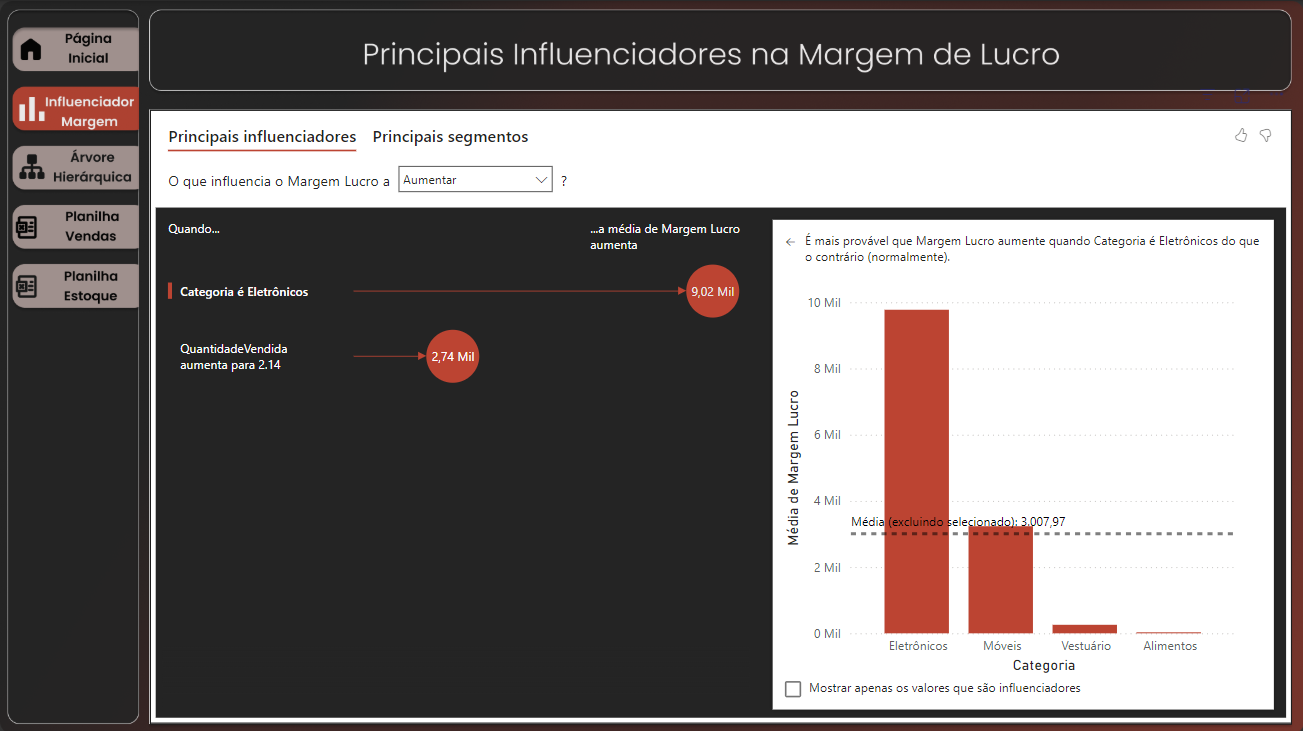

Layout of this report page (visuals, bound fields, positions):
{"tool":"powerbi","page":{"name":"Categoria e Produtos influenciadores","canvas":[1280,720],"ordinal":1},"visuals":[{"type":"keyDriversVisual","fields":{"ExplainBy":["dProdutos.CATEGORIA","dClientes.Região","dClientes.Cidade","dClientes.Estado","dClientes.Cliente","@Medidas.QuantidadeVendida","dProdutos.DESCRIÇÃO"],"Target":["@Medidas.MargemLucro"]},"box":[147.3,107.3,1120.9,602.7],"z":0},{"type":"pageNavigator","box":[11.1,140,127.8,46.7],"z":1000},{"type":"pageNavigator","box":[10.6,198.1,128.1,47.5],"z":2000},{"type":"pageNavigator","box":[10.6,256.9,128.1,45],"z":3000},{"type":"pageNavigator","box":[11.1,26.7,127.8,43.3],"z":4000}]}

Visuals, with their boxes on the page's 1280x720 design canvas (x1, y1, x2, y2). These are canvas units, not pixel positions in the 1303x731 screenshot, which may show the page scaled, cropped or inside an application window:
keyDriversVisual - dProdutos.CATEGORIA x dClientes.Região: bbox(147, 107, 1268, 710)
pageNavigator: bbox(11, 140, 139, 187)
pageNavigator: bbox(11, 198, 139, 246)
pageNavigator: bbox(11, 257, 139, 302)
pageNavigator: bbox(11, 27, 139, 70)
